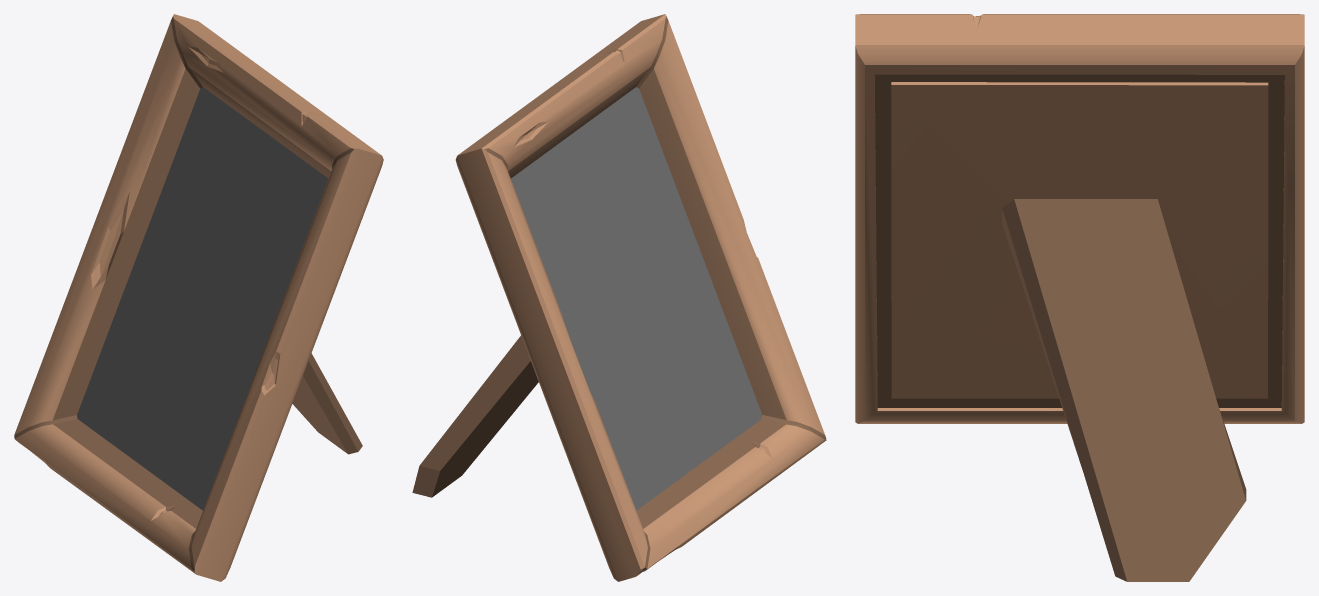
Rendered from PictureFrame.fbx.
3 views of the same model, side by side, from view 1: azimuth 30°, elevation 25°; view 2: azimuth 150°, elevation 25°; view 3: azimuth 270°, elevation 25° (orthographic). The views are drawn at different scales.
Visible parts, largest first — view 1: Cube; view 2: Cube; view 3: Cube.
Part boxes in pixels (x1,y1,x2,y2): Cube: (14, 14, 383, 581); Cube: (412, 14, 826, 581); Cube: (855, 14, 1304, 581).
Size of the model in its own units: 138 by 193 by 158.
